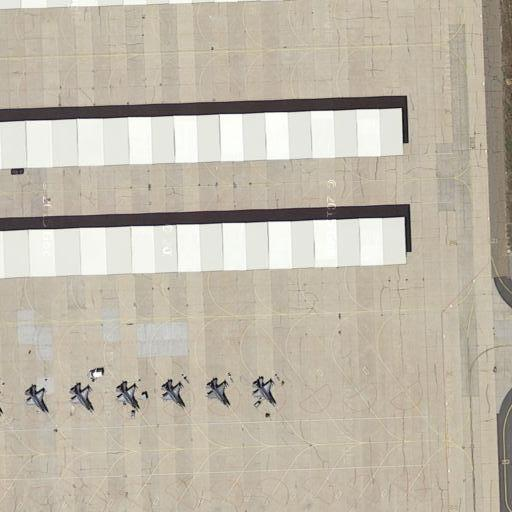F-16: (248, 372, 279, 411), (158, 376, 189, 411), (66, 377, 94, 415), (113, 380, 143, 414), (203, 377, 233, 408), (23, 384, 49, 417)
